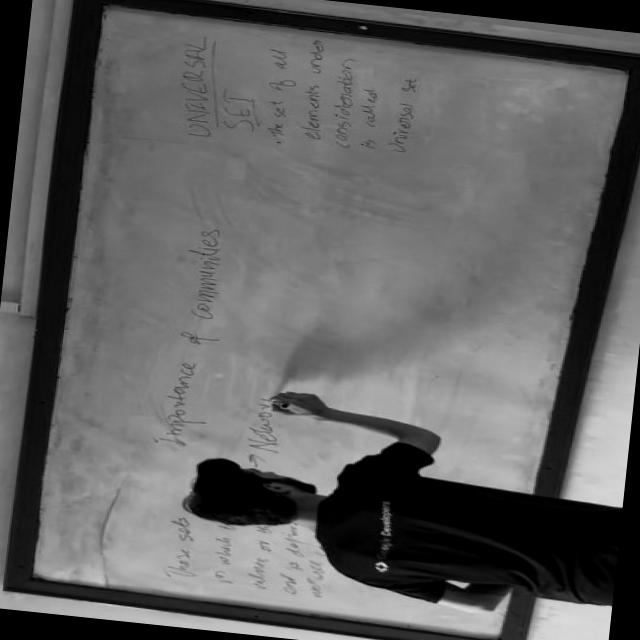Instructor: (166, 448, 604, 612)
White-board: (17, 0, 640, 640)
